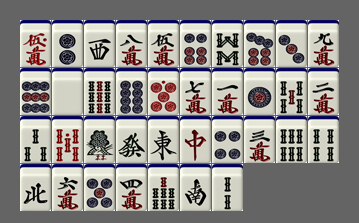0m: (20, 20, 51, 67)
0p: (148, 68, 179, 115)
0s: (52, 116, 83, 163)
1m: (212, 68, 243, 115)
1p: (244, 68, 275, 115)
1s: (84, 116, 115, 163)
1z: (148, 116, 179, 163)
2m: (308, 68, 339, 115)
2p: (52, 20, 83, 67)
2s: (212, 164, 243, 211)
2z: (180, 164, 211, 211)
3m: (244, 116, 275, 163)
3p: (276, 20, 307, 67)
3s: (20, 116, 51, 163)
3z: (84, 20, 115, 67)
4m: (116, 164, 147, 211)
4p: (212, 116, 243, 163)
4s: (308, 116, 339, 163)
4z: (20, 164, 51, 211)
5m: (148, 20, 179, 67)
5p: (84, 164, 115, 211)
5s: (276, 68, 307, 115)
5z: (52, 68, 83, 115)
6m: (52, 164, 83, 211)
6p: (180, 20, 211, 67)
6s: (276, 116, 307, 163)
6z: (116, 116, 147, 163)
7m: (180, 68, 211, 115)
7p: (244, 20, 275, 67)
7s: (148, 164, 179, 211)
7z: (180, 116, 211, 163)
8m: (116, 20, 147, 67)
8p: (116, 68, 147, 115)
8s: (212, 20, 243, 67)
9m: (308, 20, 339, 67)
9p: (20, 68, 51, 115)
9s: (84, 68, 115, 115)
